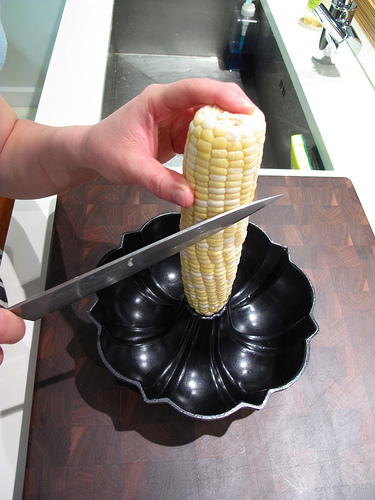corn: (180, 103, 267, 315)
